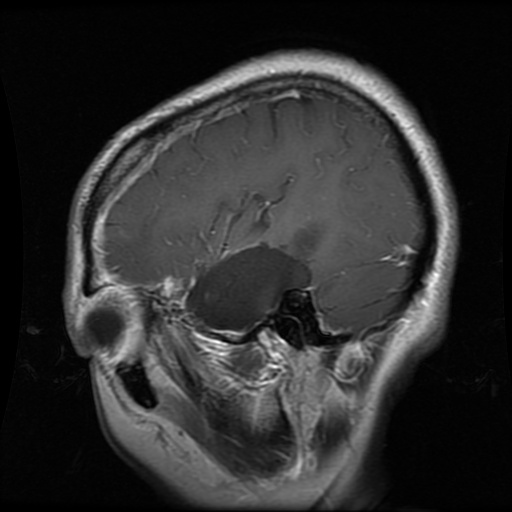glioma: (184, 244, 312, 331)
